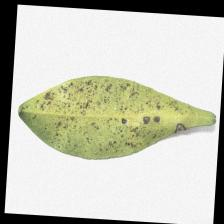canker: (44, 78, 196, 158)
